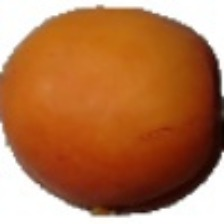apricot: (40, 0, 192, 200)
